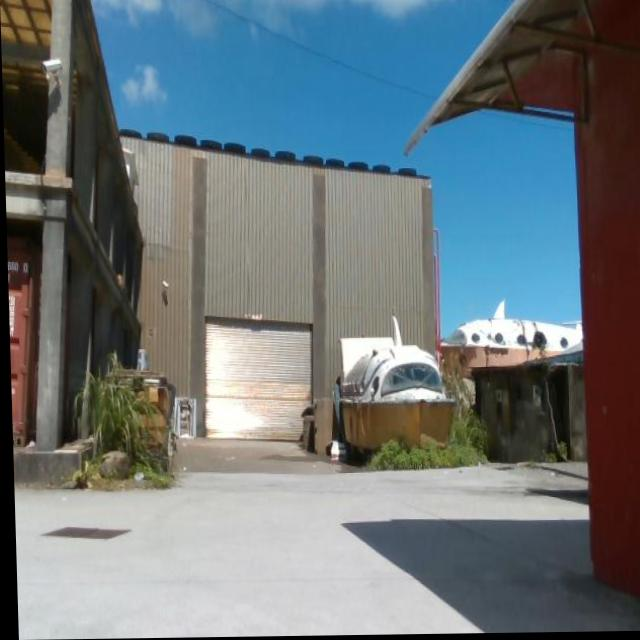pollute: (116, 343, 196, 474), (295, 397, 347, 463)
